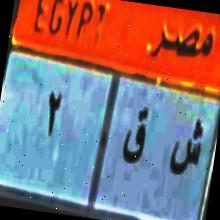2: (42, 83, 65, 145)
qaaf: (120, 106, 150, 178)
sheen: (166, 115, 208, 190)
